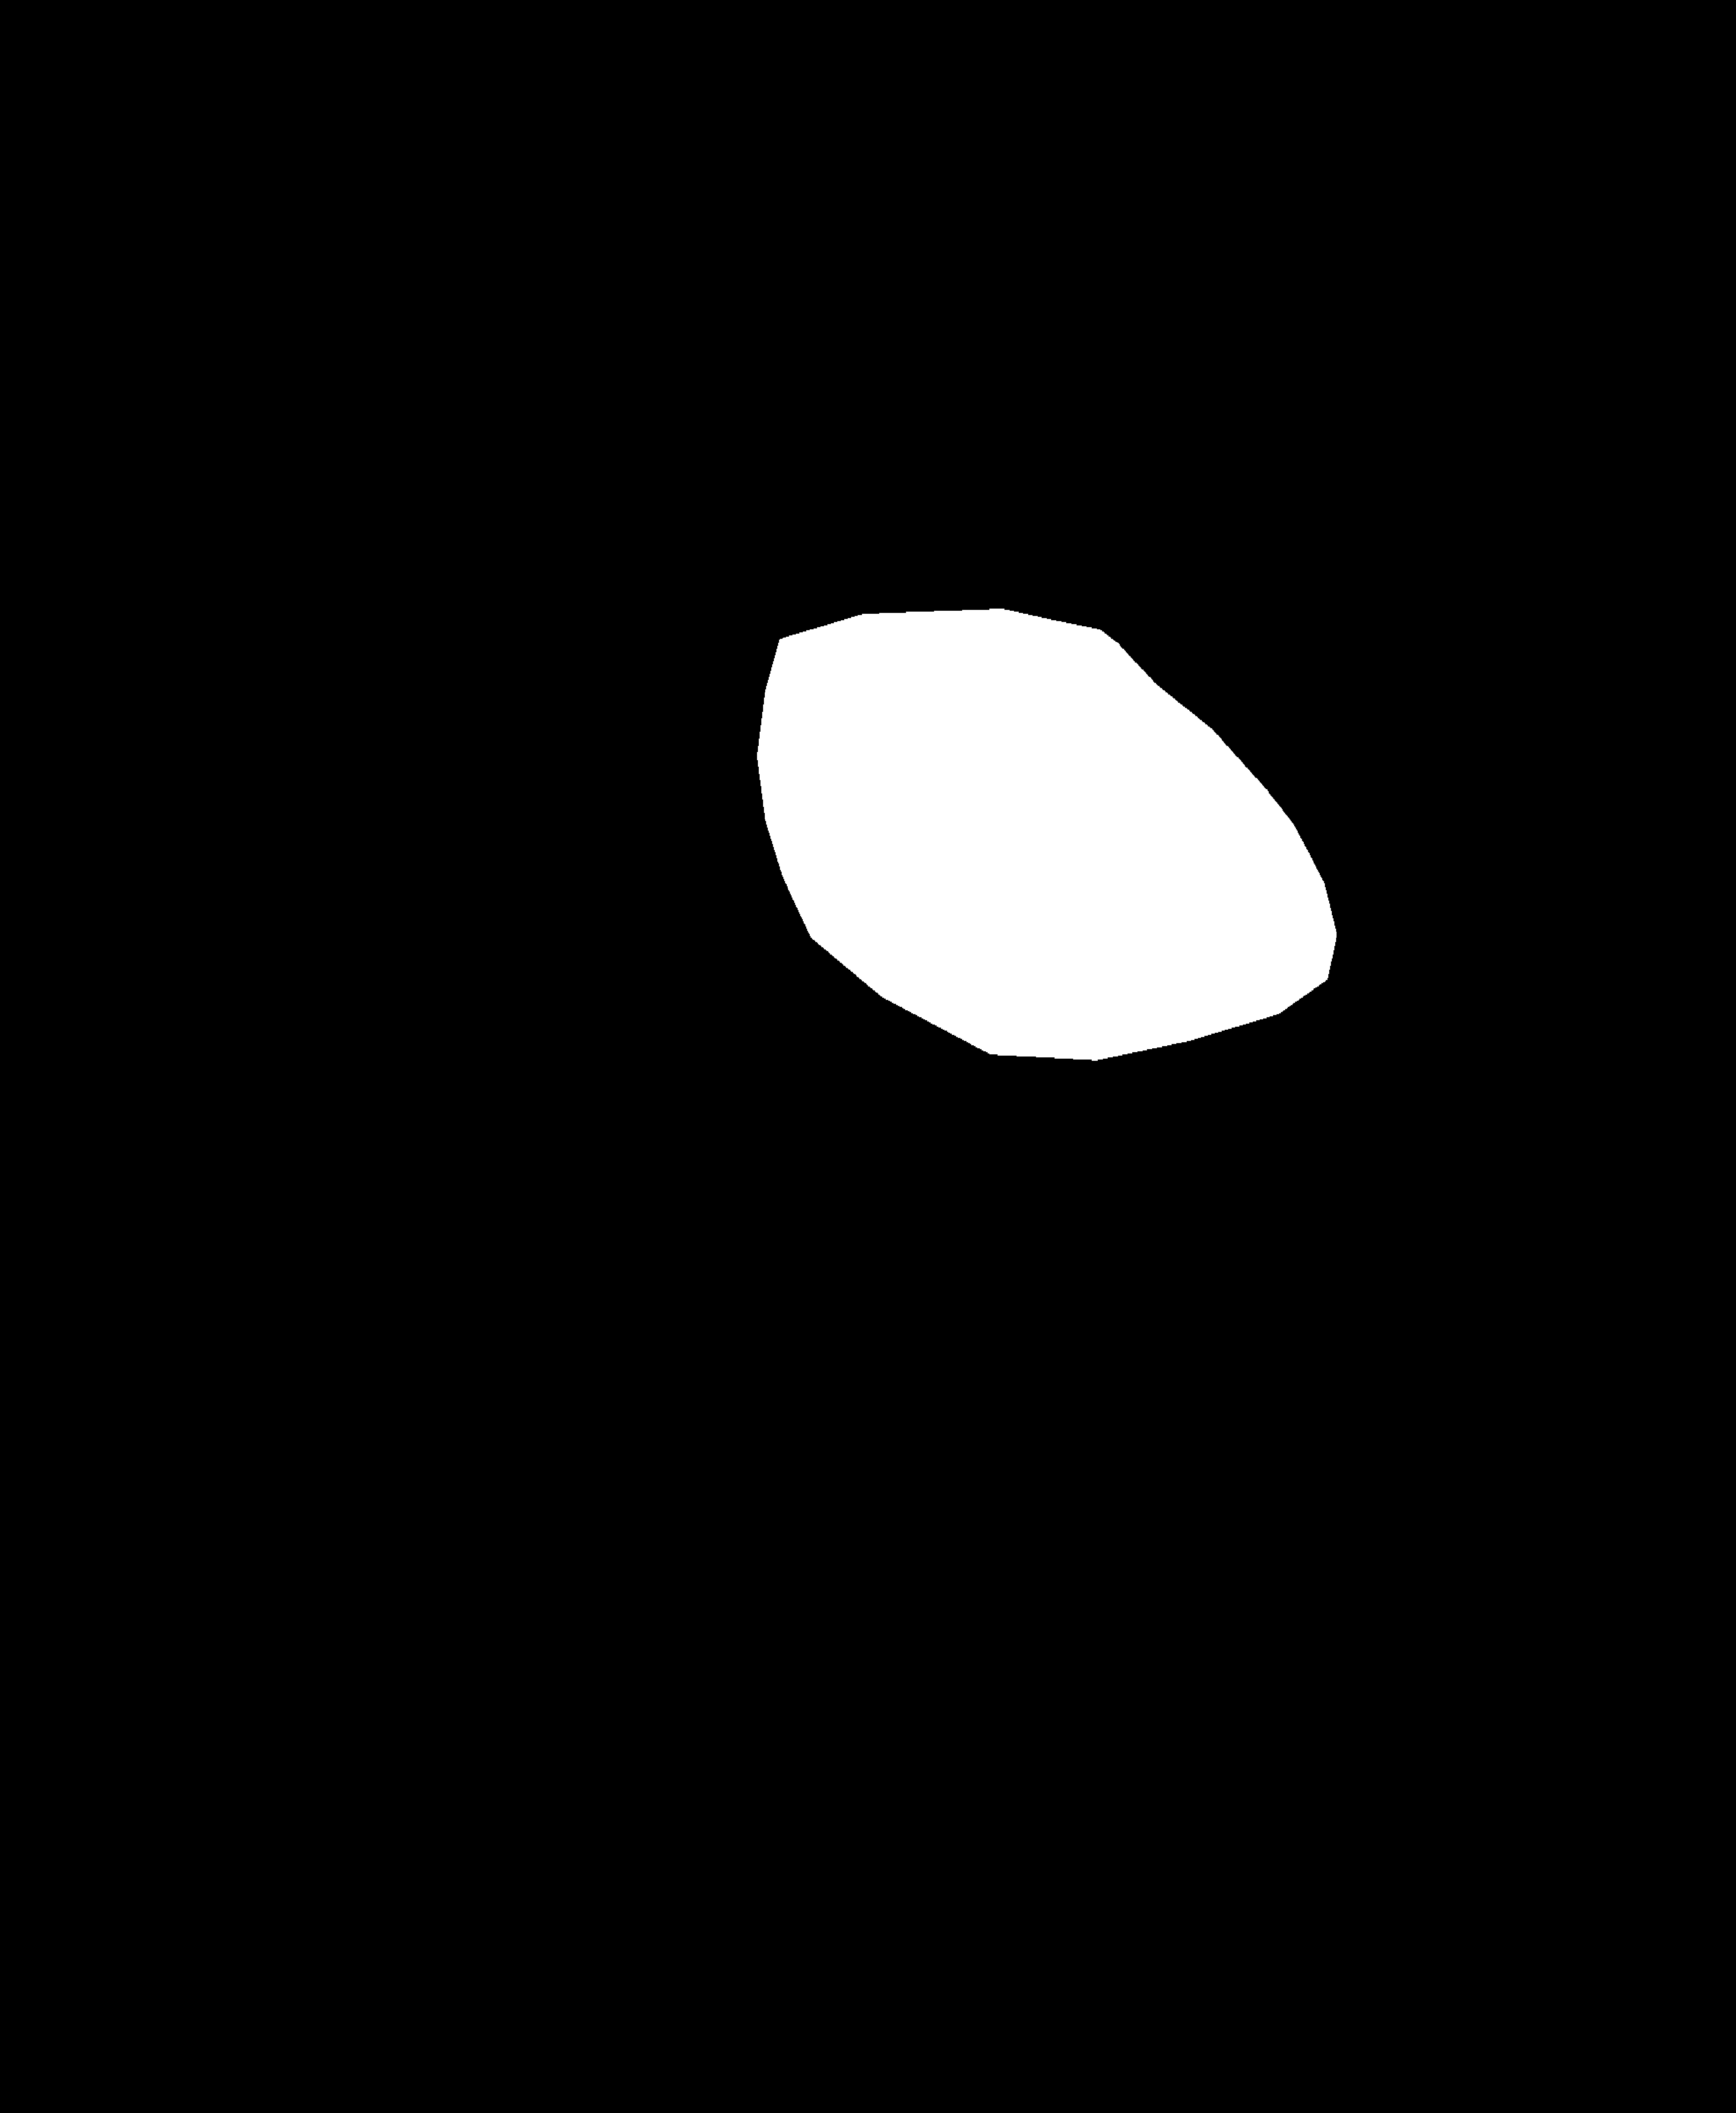heart: (758, 655, 1338, 1039)
left_lung: (190, 118, 820, 1079)
right_lung: (925, 79, 1587, 1092)
